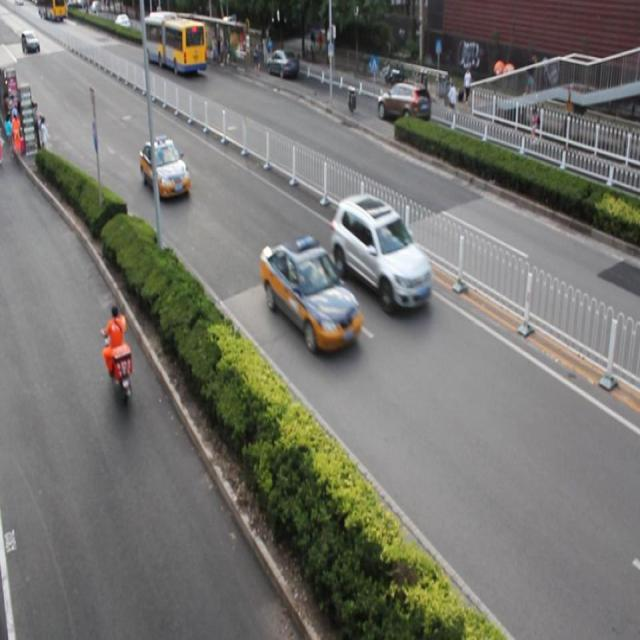car: (330, 196, 432, 314), (259, 238, 361, 354), (140, 135, 190, 200), (375, 80, 430, 126), (264, 48, 298, 80)
van: (144, 11, 206, 77)
